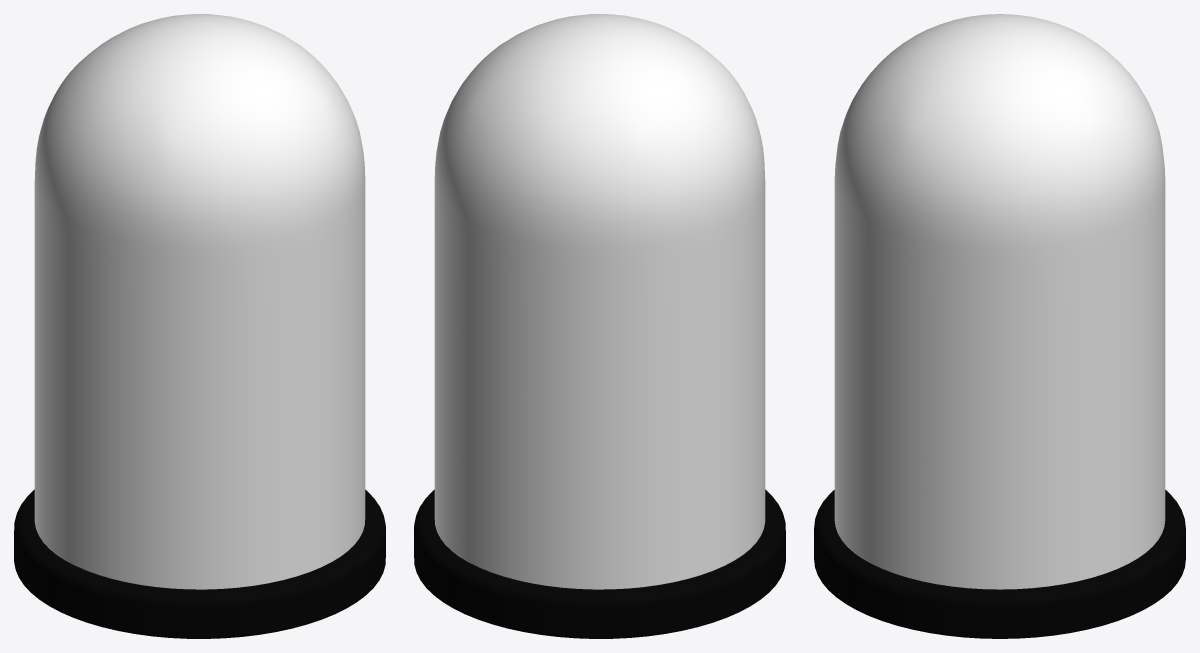
Rendered from glass_1.glb.
The picture shows the model from 3 angles, left to right: view 1: azimuth 30°, elevation 25°; view 2: azimuth 150°, elevation 25°; view 3: azimuth 270°, elevation 25°; orthographic projection.
Parts seen in each view (by area): view 1: Object_3; view 2: Object_3; view 3: Object_3.
Part boxes in pixels (box(x1,y1,x2,y2)): Object_3: box(14, 14, 385, 638); Object_3: box(414, 14, 785, 638); Object_3: box(814, 14, 1185, 638).
Bounding box in the file's own units: 24.1 × 37.94 × 24.1.
Materials: 2 (1 with a texture image).
